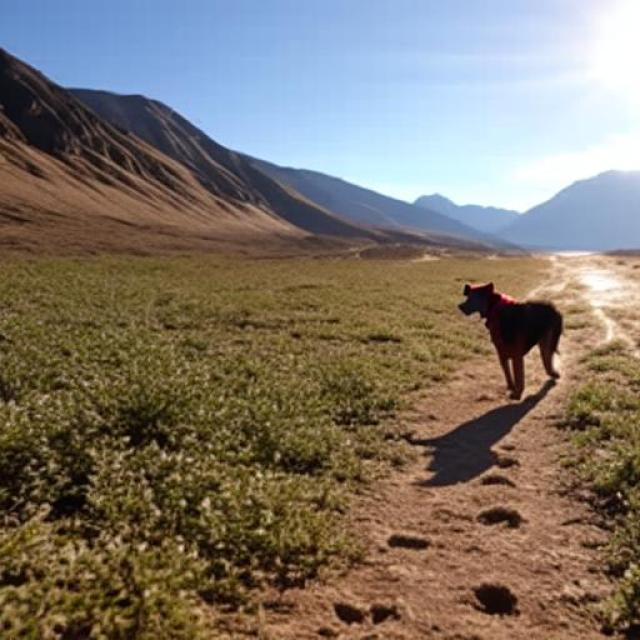Dog: (459, 282, 564, 399)
